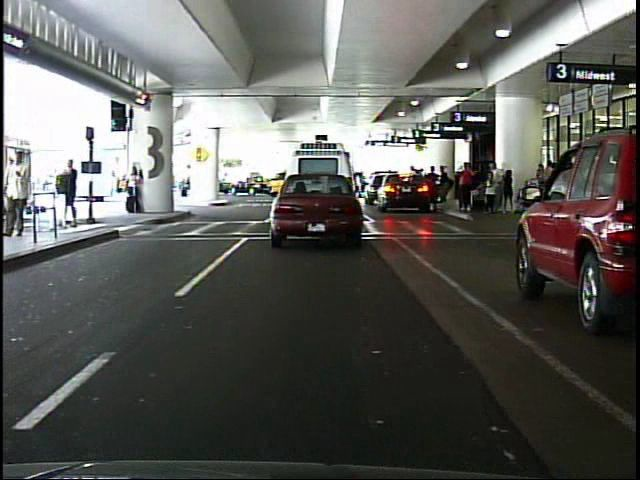person: (5, 149, 39, 243), (62, 154, 85, 231), (124, 162, 145, 214), (173, 160, 198, 202), (458, 162, 476, 215)
